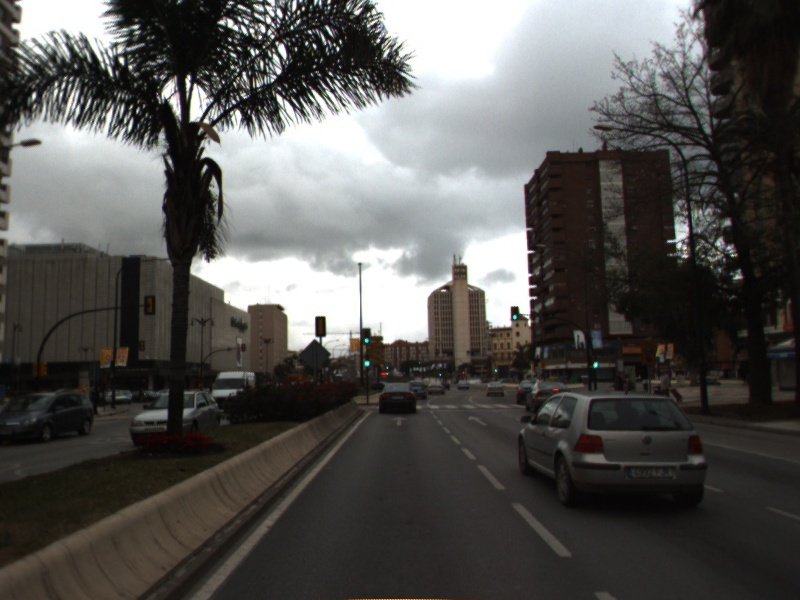STRAIGHT: (466, 414, 490, 428), (389, 414, 410, 428)
